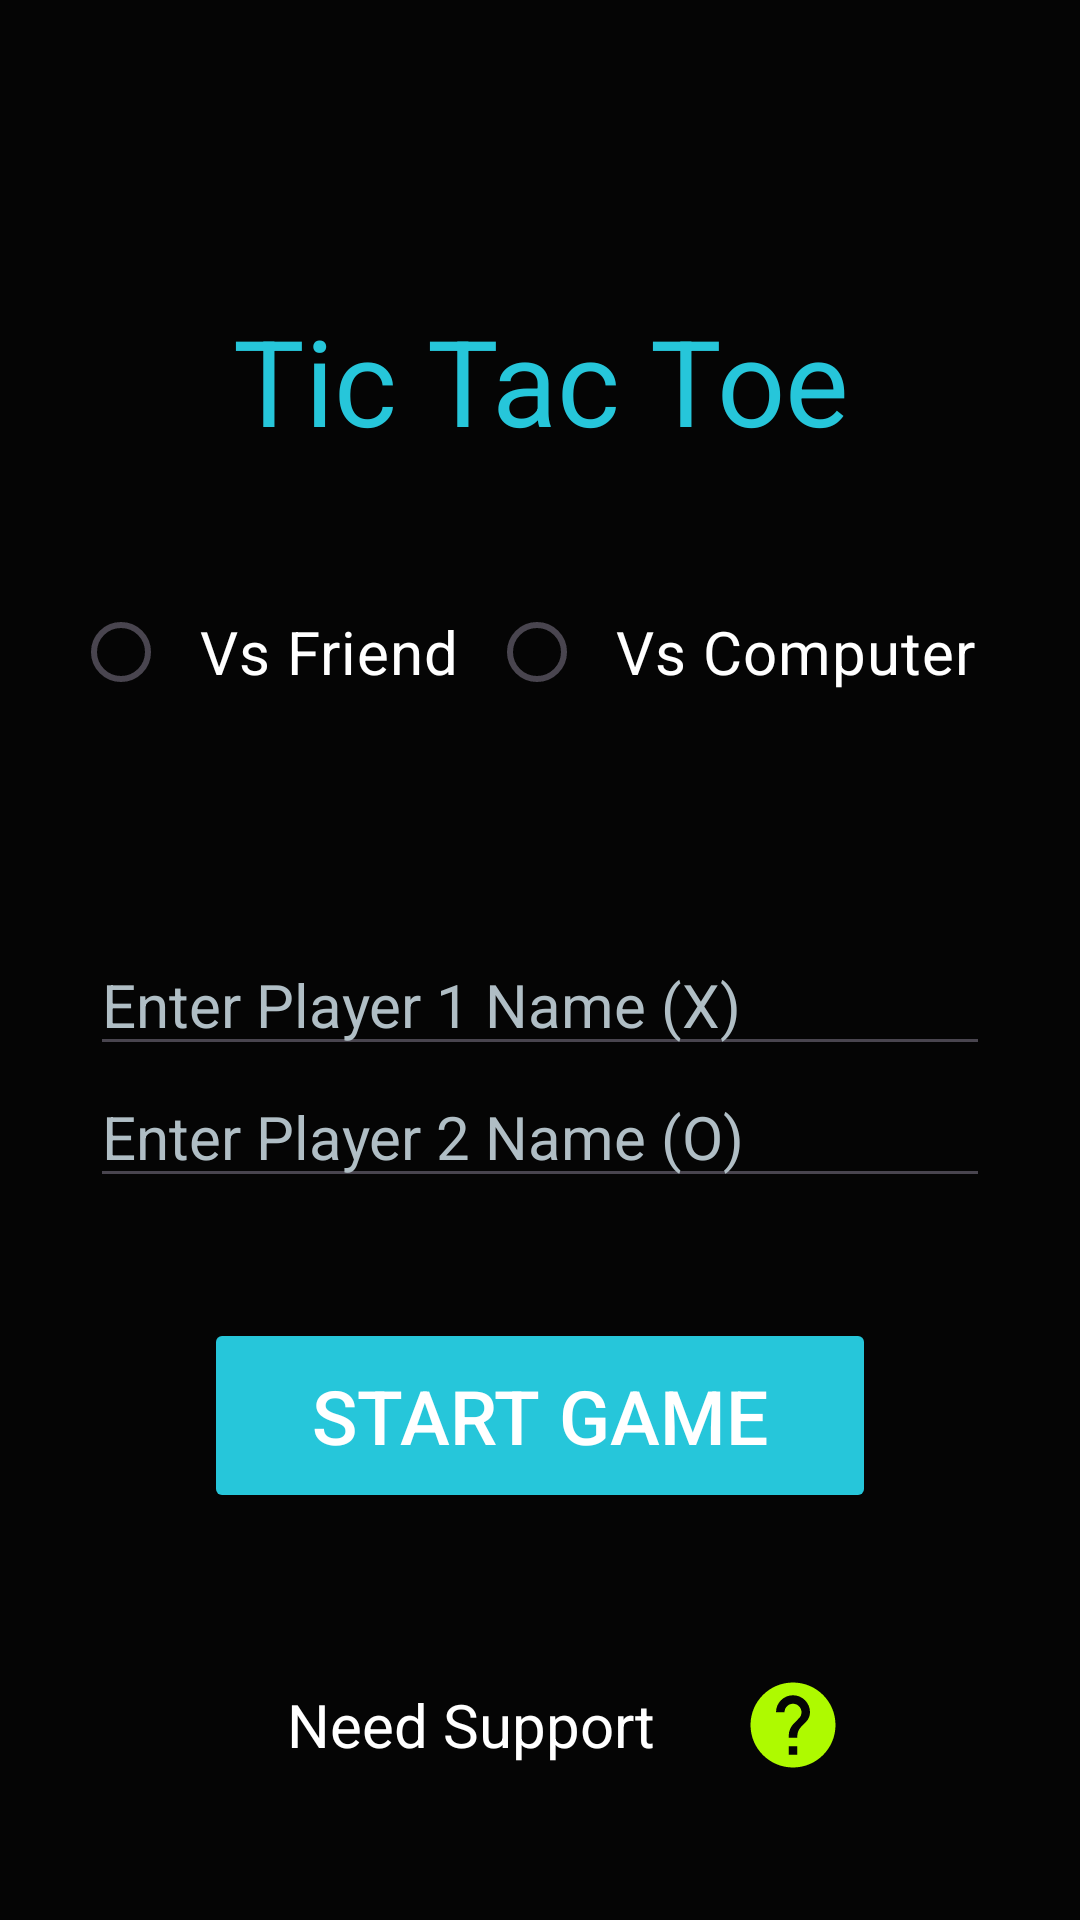

Where icons sit on this 1080 x 1920 app screen, as (x1, y1, x2, y2):
help: (750, 1682, 836, 1768)
